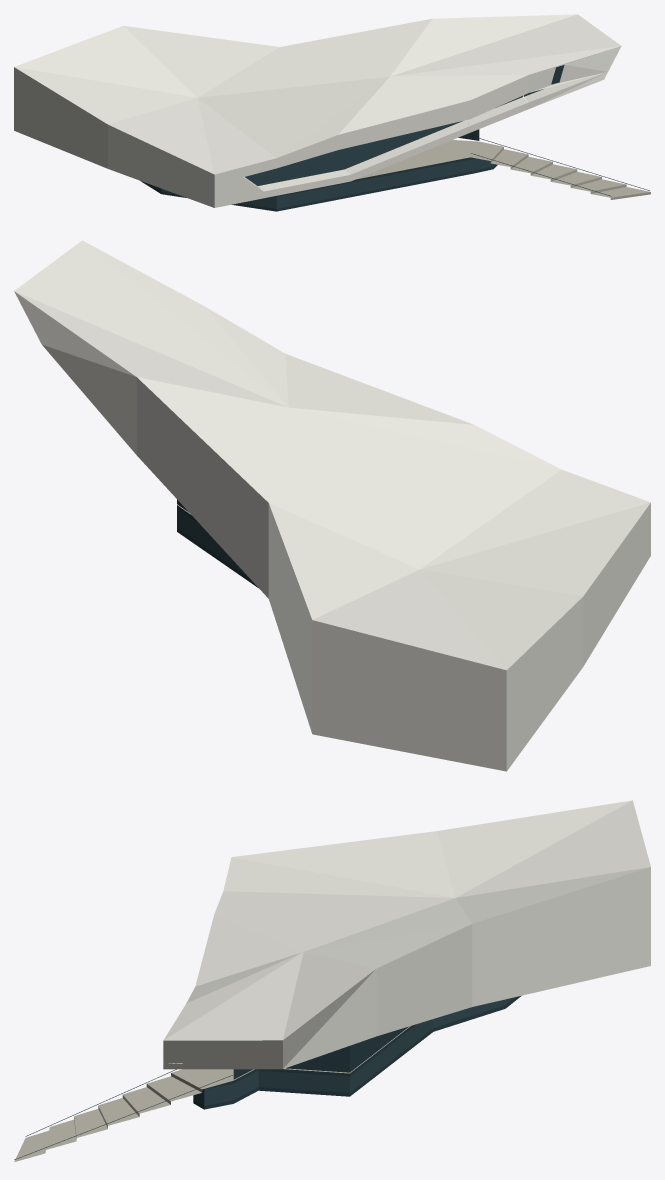
File: eye-filmmuseum-far.glb
The picture shows the model from 3 angles, top to bottom: view 1: azimuth 30°, elevation 25°; view 2: azimuth 150°, elevation 25°; view 3: azimuth 270°, elevation 25°; orthographic projection. The views are drawn at different scales.
Visible parts, largest first — view 1: eye-filmmuseum-0-shell, eye-filmmuseum-0-light, eye-filmmuseum-0-concrete, eye-filmmuseum-0-glass; view 2: eye-filmmuseum-0-shell, eye-filmmuseum-0-light; view 3: eye-filmmuseum-0-shell, eye-filmmuseum-0-concrete, eye-filmmuseum-0-light, eye-filmmuseum-0-glass.
Boxes of the visible parts, <box> form: eye-filmmuseum-0-shell: <box>14,14,621,207</box>; eye-filmmuseum-0-light: <box>150,89,543,208</box>; eye-filmmuseum-0-concrete: <box>357,140,650,199</box>; eye-filmmuseum-0-glass: <box>141,65,649,211</box>; eye-filmmuseum-0-shell: <box>14,240,650,771</box>; eye-filmmuseum-0-light: <box>177,509,247,576</box>; eye-filmmuseum-0-shell: <box>163,800,650,1069</box>; eye-filmmuseum-0-concrete: <box>14,1026,410,1161</box>; eye-filmmuseum-0-light: <box>193,997,514,1105</box>; eye-filmmuseum-0-glass: <box>14,995,521,1159</box>.
Size of the model in its own units: 111 by 25 by 102.
